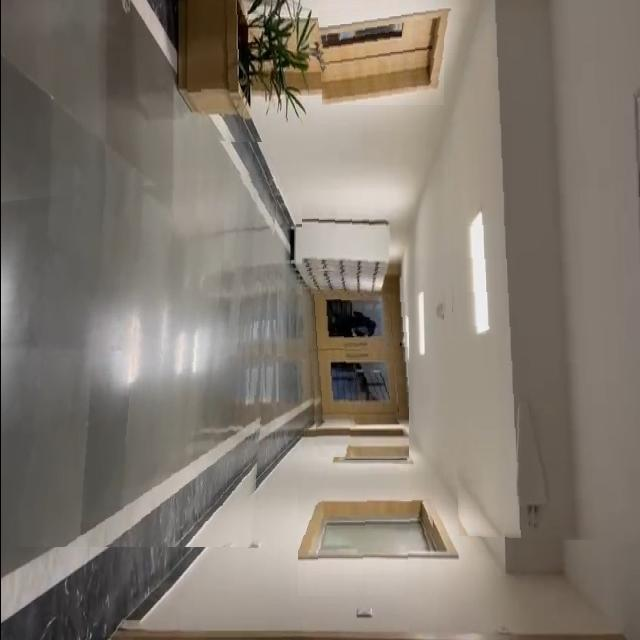door: (297, 464, 436, 596), (306, 294, 408, 458), (317, 0, 443, 105), (301, 190, 395, 300)
floor: (0, 171, 278, 547)
furniture: (197, 0, 308, 144)
wall: (442, 11, 640, 543)
